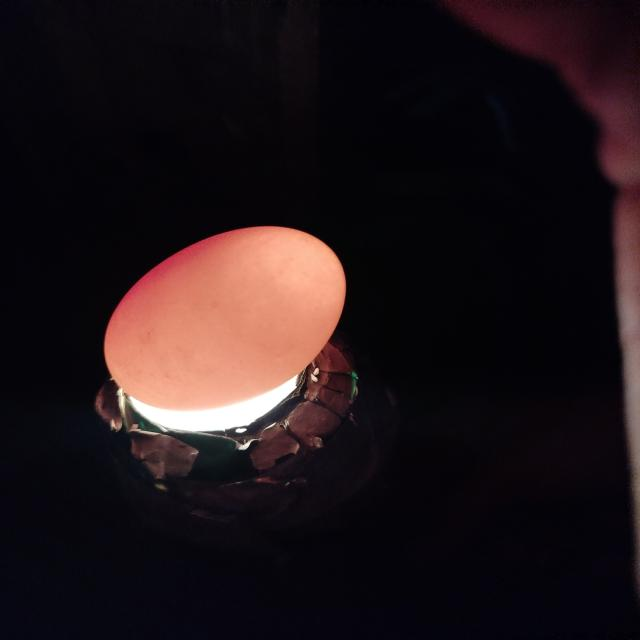Gema Quebrada: (113, 226, 260, 312)
